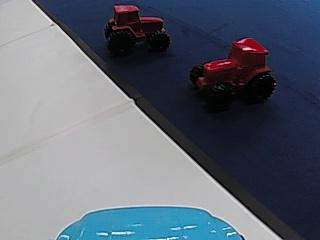Tracktor: (184, 35, 278, 104), (102, 3, 168, 53)
